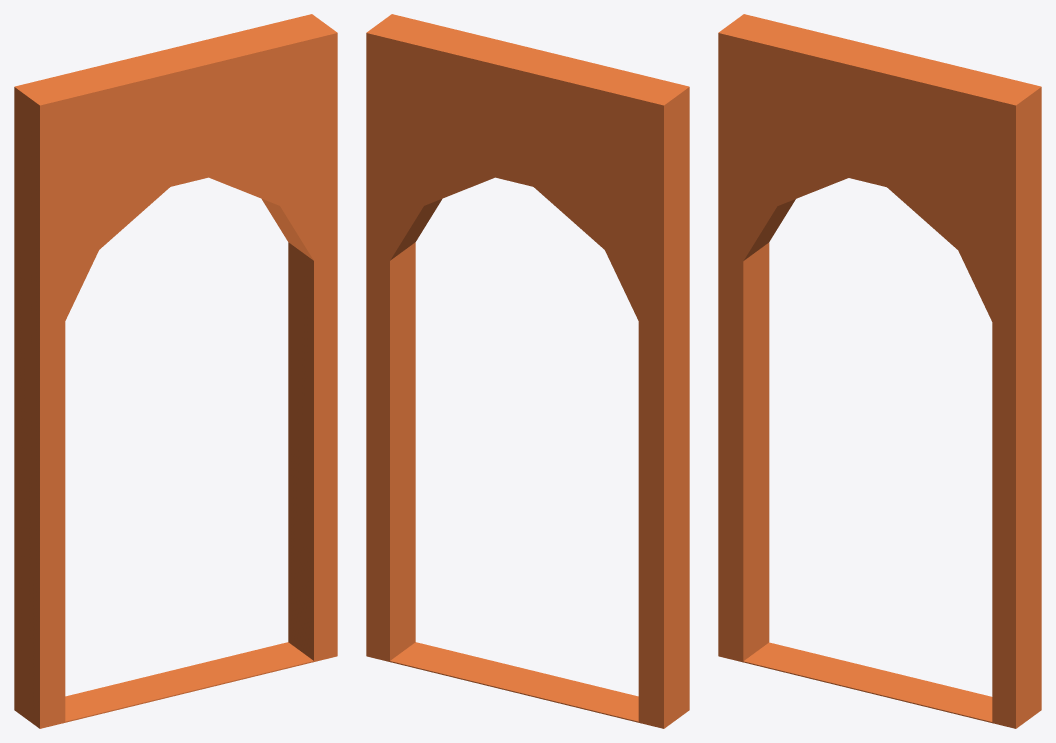
The model's file is OrangeDoorframe.glb.
3 renders of one model, left to right at view 1: azimuth 30°, elevation 25°; view 2: azimuth 150°, elevation 25°; view 3: azimuth 330°, elevation 25°, orthographic.
Visible parts, largest first — view 1: wall_orange_door; view 2: wall_orange_door; view 3: wall_orange_door.
Boxes of the visible parts, bbox=[...] form: wall_orange_door: bbox=[14, 14, 337, 728]; wall_orange_door: bbox=[366, 14, 689, 728]; wall_orange_door: bbox=[718, 14, 1041, 728].
Size of what is drawn, in the model's own units: 2 by 4 by 0.3.
1 material, 1 textured.
